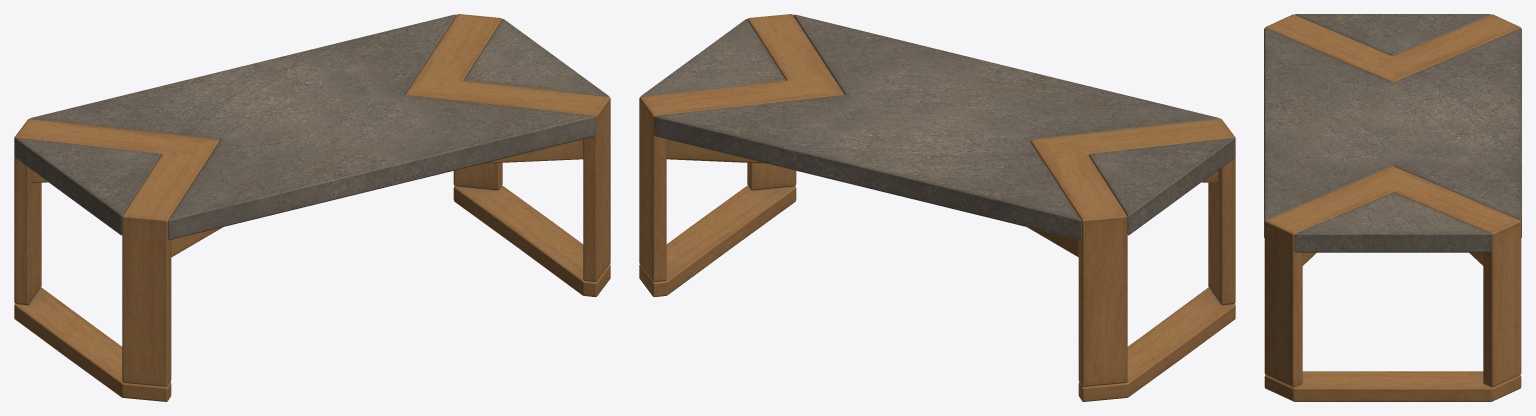
File: table-2.gltf
3 renders of one model, left to right at view 1: azimuth 30°, elevation 25°; view 2: azimuth 150°, elevation 25°; view 3: azimuth 270°, elevation 25°, orthographic. The views are drawn at different scales.
Parts seen in each view (by area): view 1: modern_coffee_table_01; view 2: modern_coffee_table_01; view 3: modern_coffee_table_01.
Boxes of the visible parts, left/top/right/bottom form: modern_coffee_table_01: left=14, top=14, right=610, bottom=401; modern_coffee_table_01: left=639, top=14, right=1235, bottom=401; modern_coffee_table_01: left=1264, top=14, right=1521, bottom=401.
Size of the model in its own units: 1.65 by 0.5887 by 0.8163.
Materials: 1 (1 with a texture image).
